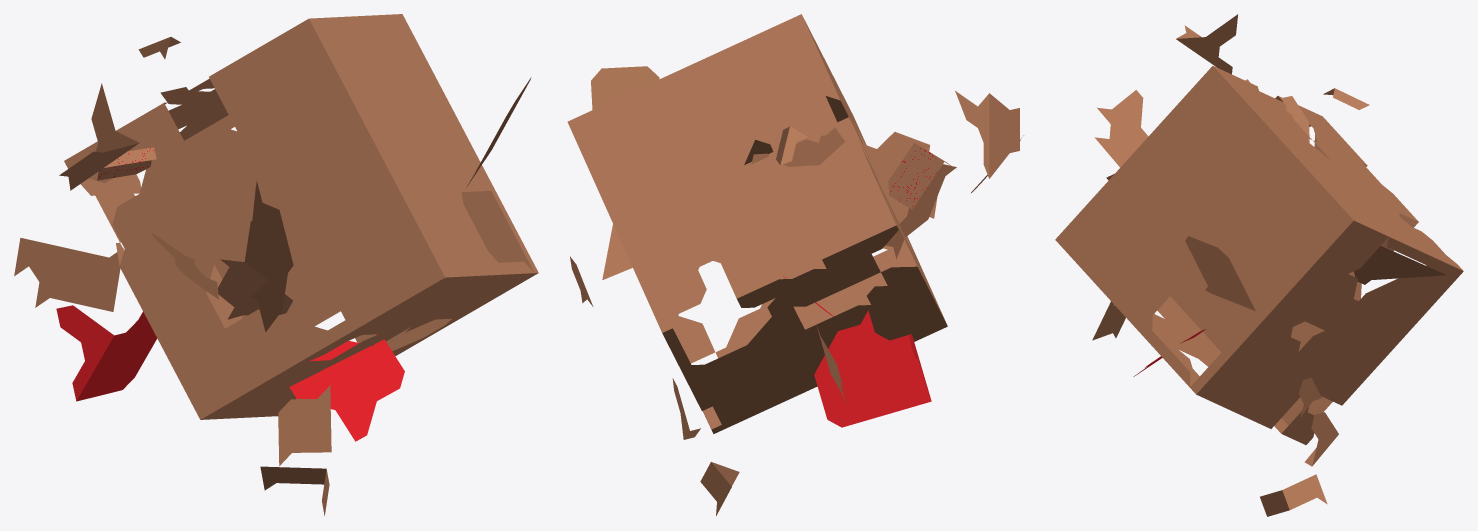
Rendered from explode_000025.obj.
3 views of the same model, side by side, from view 1: azimuth 30°, elevation 25°; view 2: azimuth 150°, elevation 25°; view 3: azimuth 270°, elevation 25° (orthographic). The views are drawn at different scales.
Parts seen in each view (by area): view 1: Cube_Cube.001; view 2: Cube_Cube.001; view 3: Cube_Cube.001.
Boxes of the visible parts, bbox=[...] form: Cube_Cube.001: bbox=[14, 14, 538, 515]; Cube_Cube.001: bbox=[567, 14, 1023, 515]; Cube_Cube.001: bbox=[1055, 14, 1463, 516].
Bounding box in the file's own units: 3.76 × 4 × 3.43.
